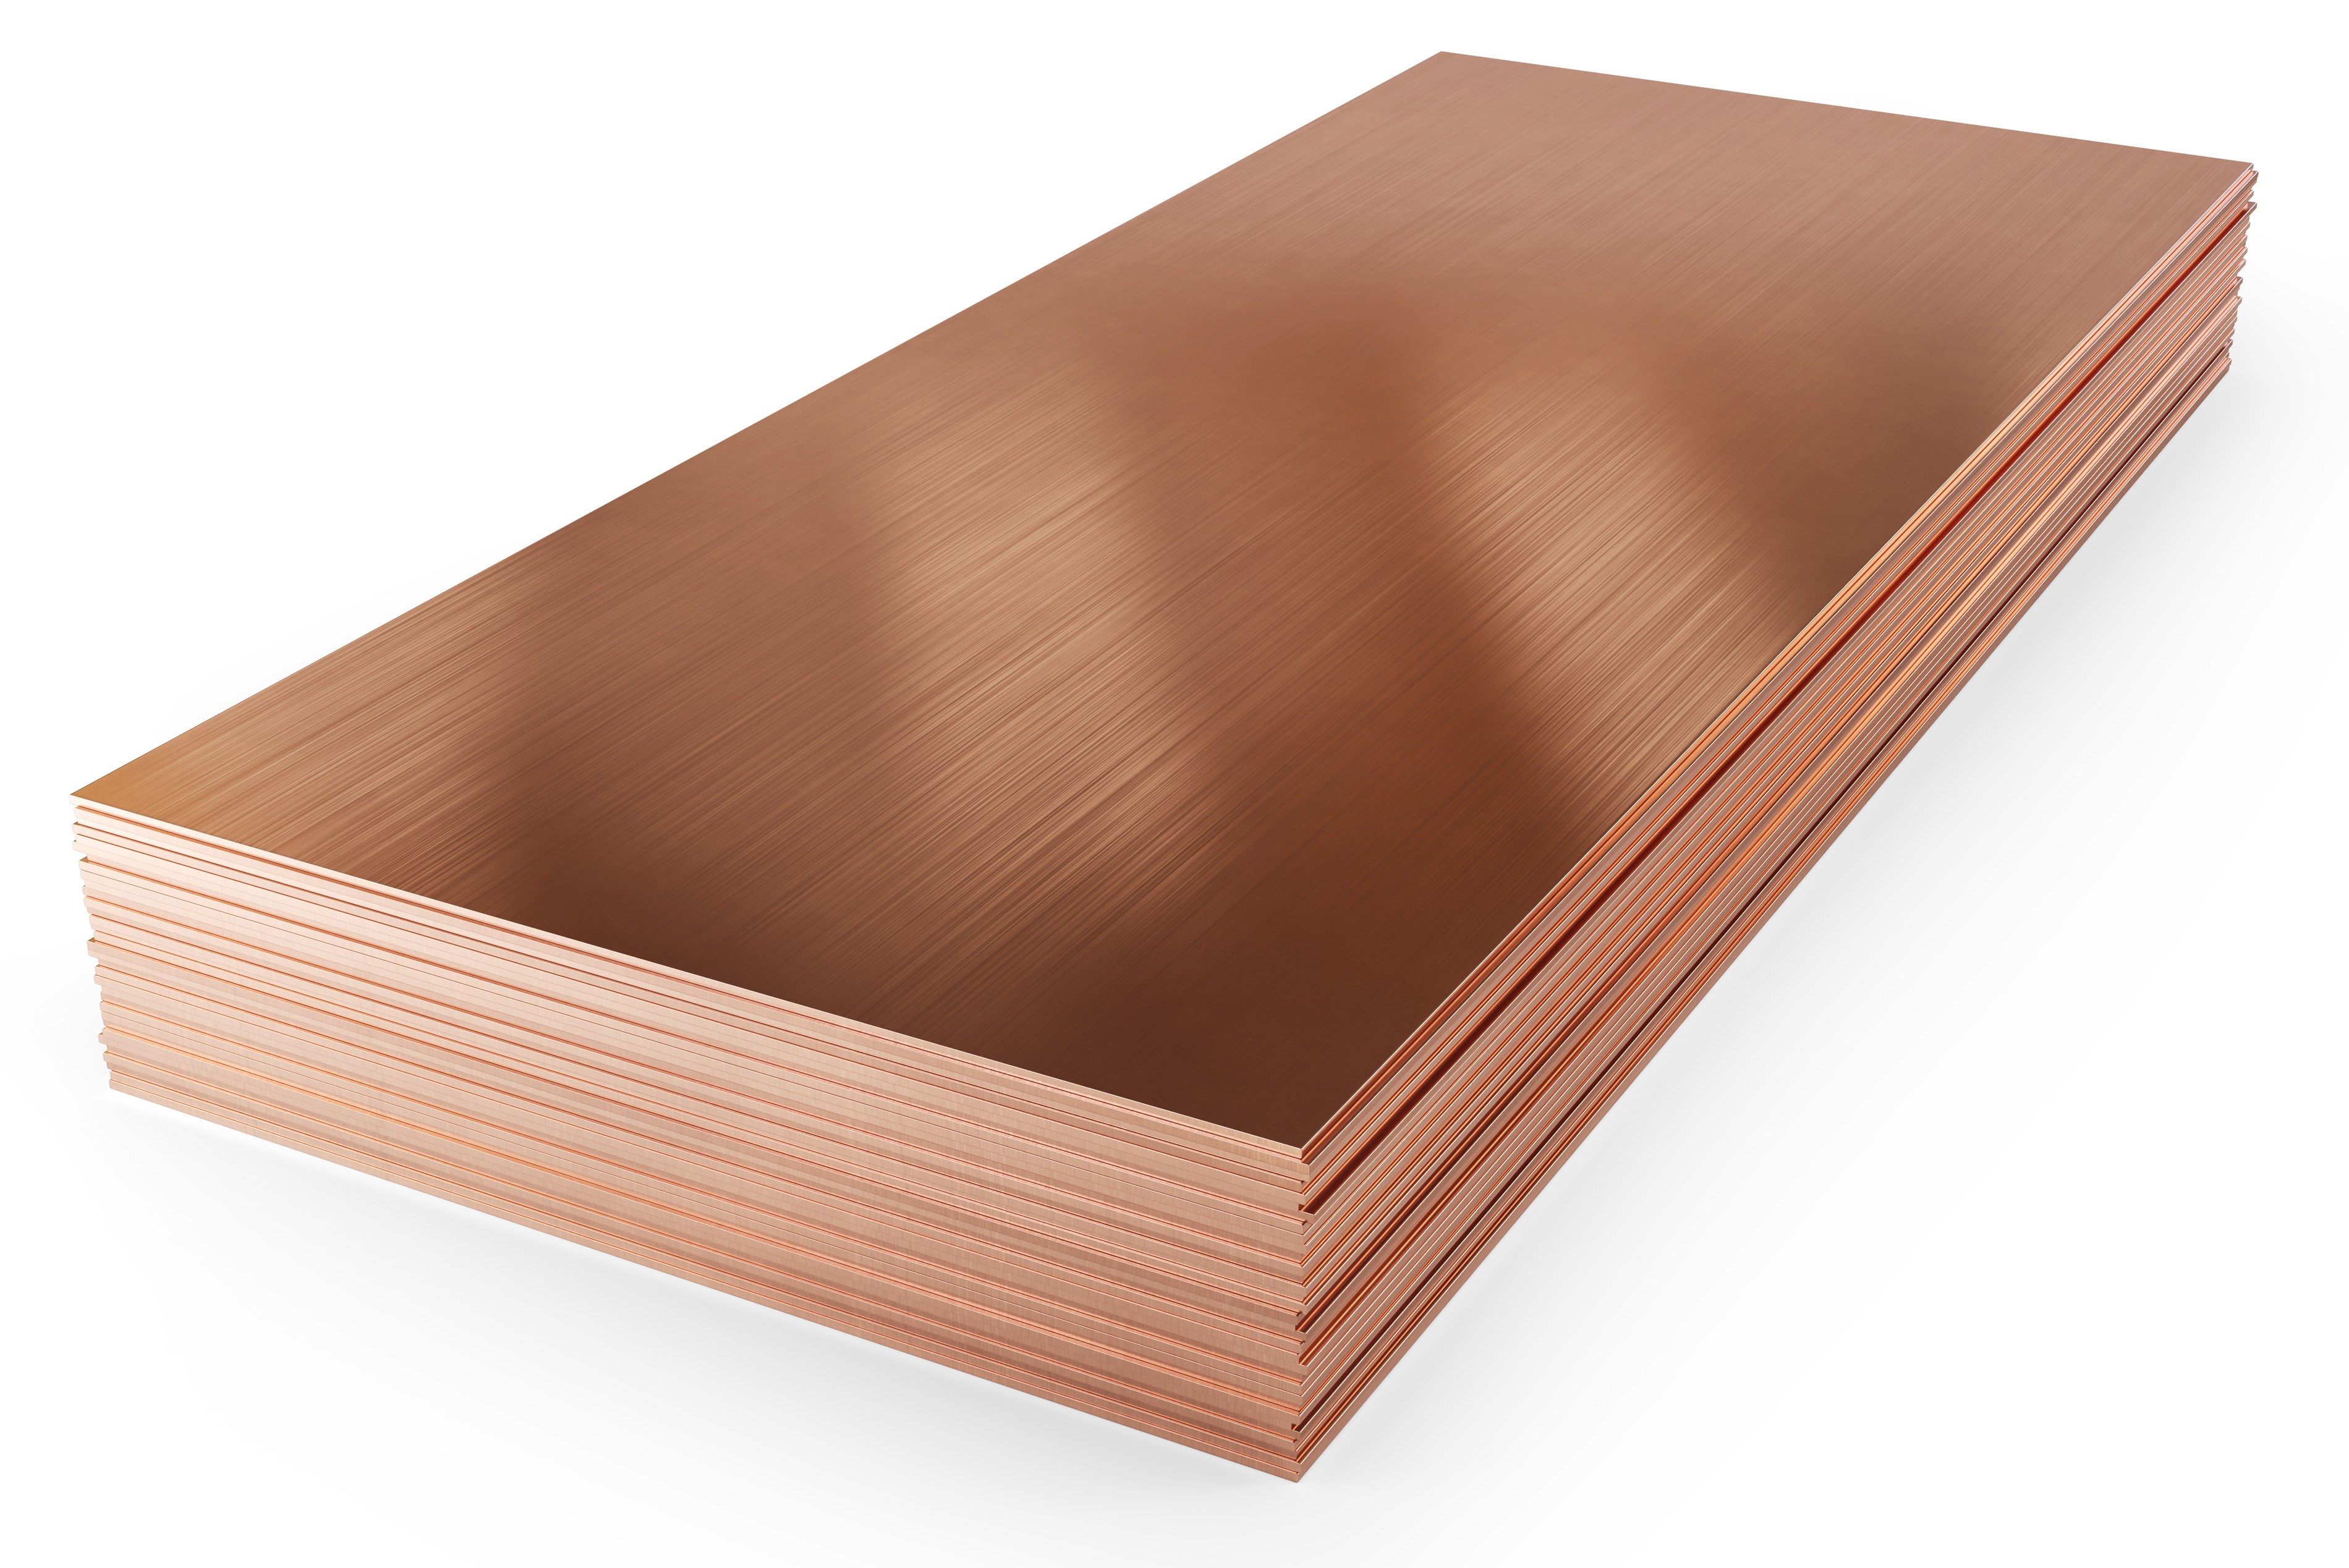norust: (58, 51, 2251, 1484)
